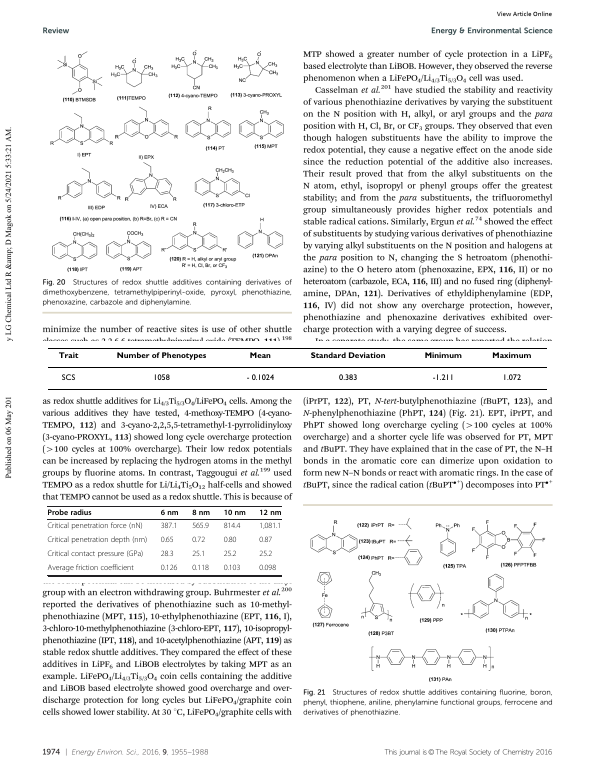borderless: (47, 346, 547, 389), (46, 505, 281, 575)
cell: (47, 536, 148, 545), (47, 550, 144, 559), (47, 522, 143, 531), (115, 351, 207, 360), (47, 564, 135, 573), (309, 351, 386, 360), (491, 351, 532, 360), (47, 509, 93, 517), (423, 351, 462, 360), (245, 373, 275, 381), (258, 522, 282, 531), (248, 351, 271, 360), (57, 351, 79, 360), (223, 509, 247, 517), (258, 509, 282, 517), (431, 373, 454, 381), (191, 522, 210, 531), (191, 564, 210, 573), (258, 564, 277, 573), (501, 373, 522, 381), (160, 522, 178, 531), (223, 522, 241, 531), (160, 564, 178, 573), (223, 564, 241, 573), (338, 373, 358, 381), (191, 509, 211, 517), (160, 509, 179, 517), (152, 373, 170, 381), (191, 536, 206, 545), (258, 536, 273, 545), (191, 550, 206, 559), (258, 550, 273, 559), (60, 373, 76, 381), (160, 536, 174, 545), (223, 536, 237, 545), (160, 550, 174, 559), (223, 550, 237, 559)
